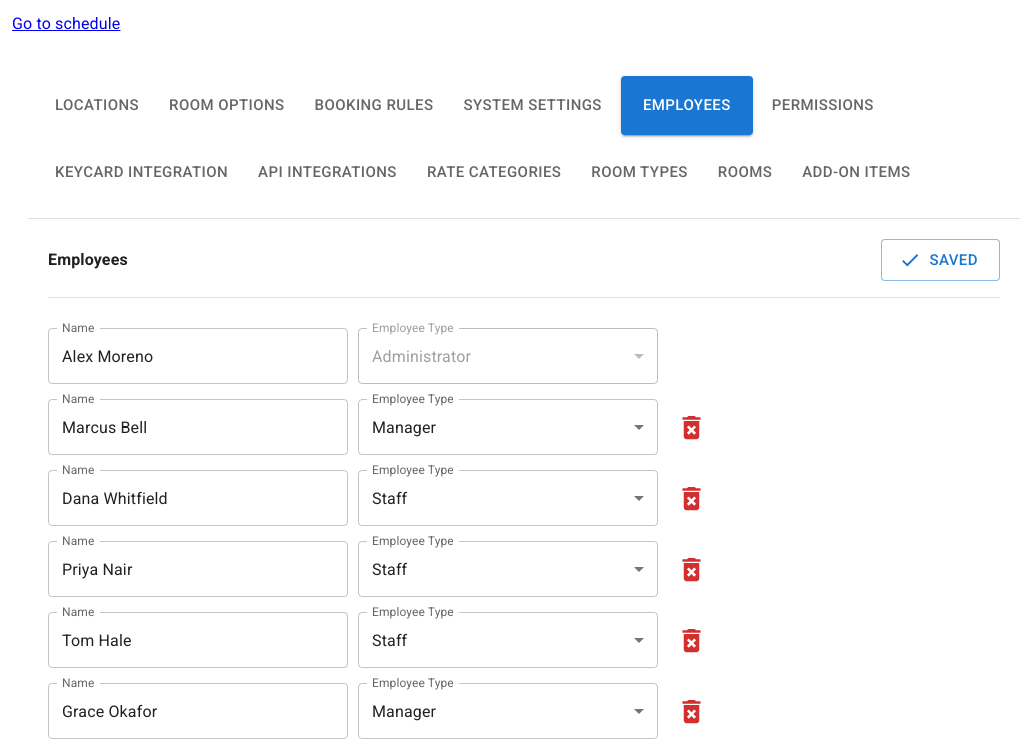
Employees page (legacy EmployeesEdit) › offers the three legacy types
Click the 1st dropdown labelled "Manager". click: (404, 427)
box: [372,418,436,437]
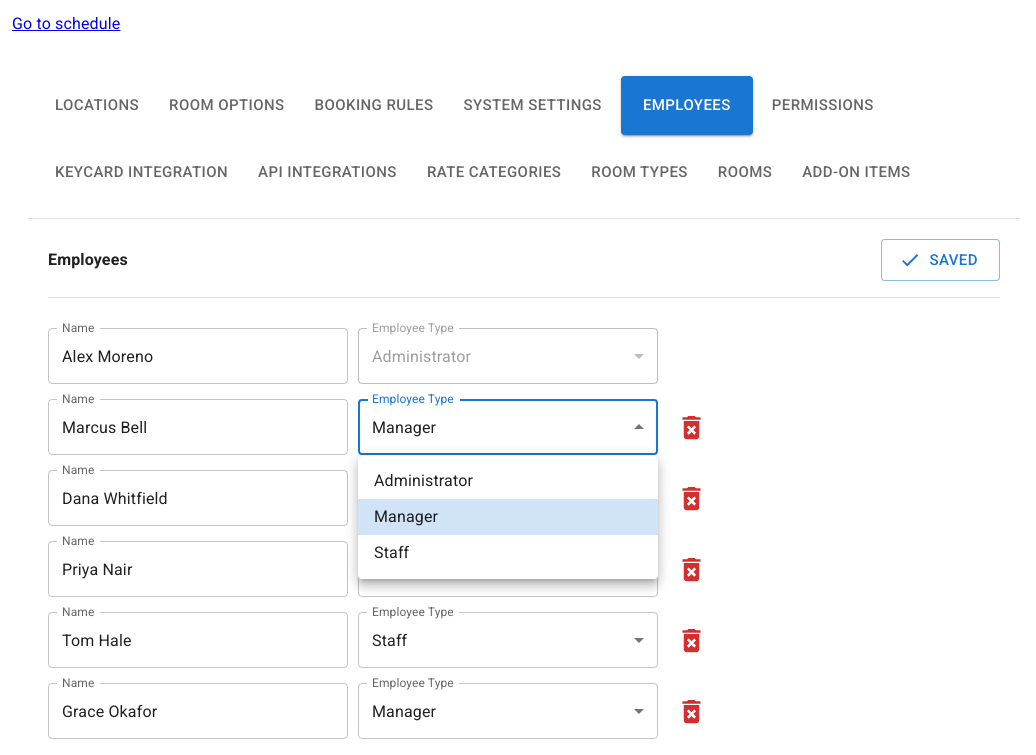
Expected: the options read "Administrator", "Manager", "Staff", in this order, [374,471,473,490]; [358,499,658,535]; [374,543,409,562]
